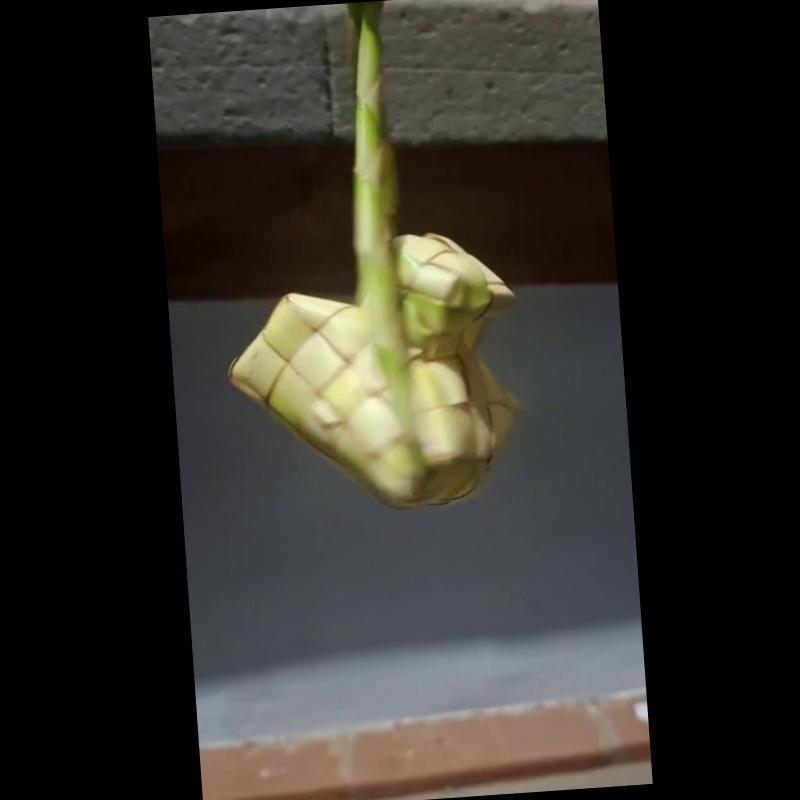Tipat Gong: (221, 0, 524, 504)
